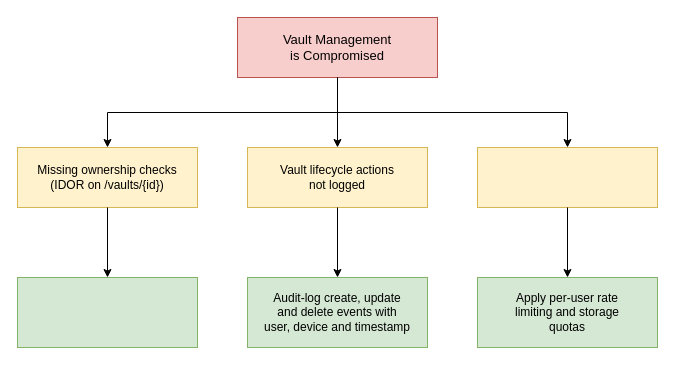
Image size: 675x365. Some labels were removed from this diagram. The shapes that lost their labels are listed below. From the top down, each one's centre as x and y in pixels, then its label:
At (x=567, y=177): "Mass create / cascade delete abuse".
At (x=107, y=312): "Enforce server-side ownership validation on every CRUD operation".
